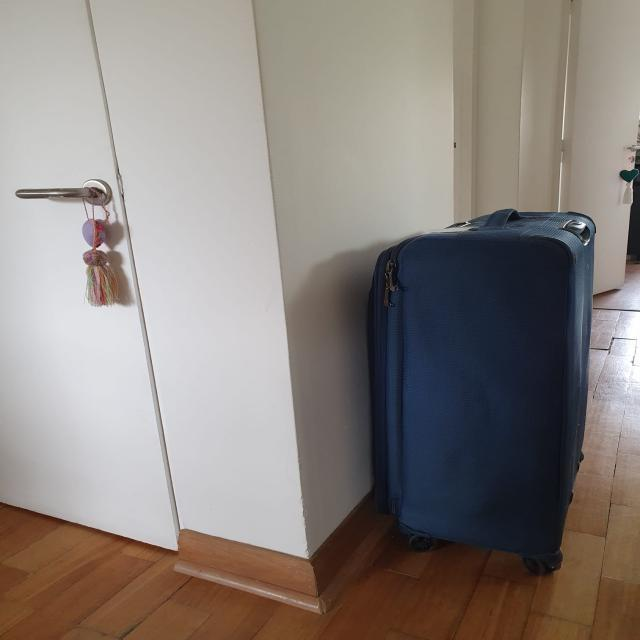Suitcase: (369, 207, 600, 576)
